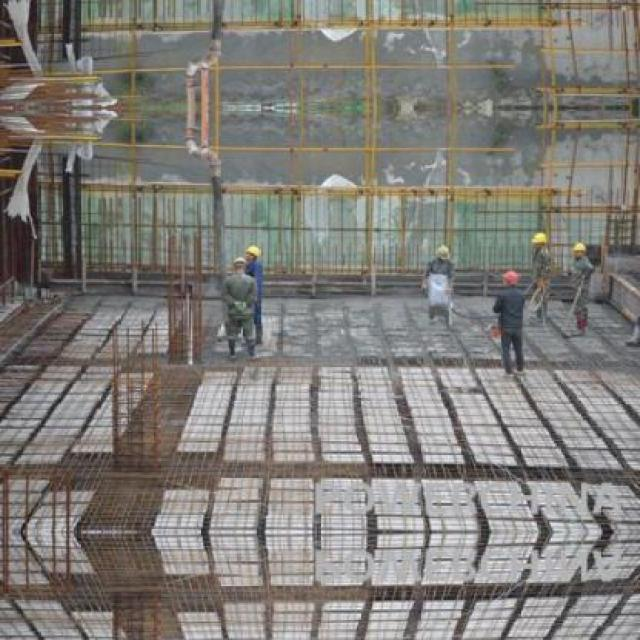helmet: (498, 268, 520, 288), (226, 252, 246, 274), (532, 228, 548, 252), (243, 242, 262, 262), (433, 241, 450, 263), (571, 240, 589, 258)
